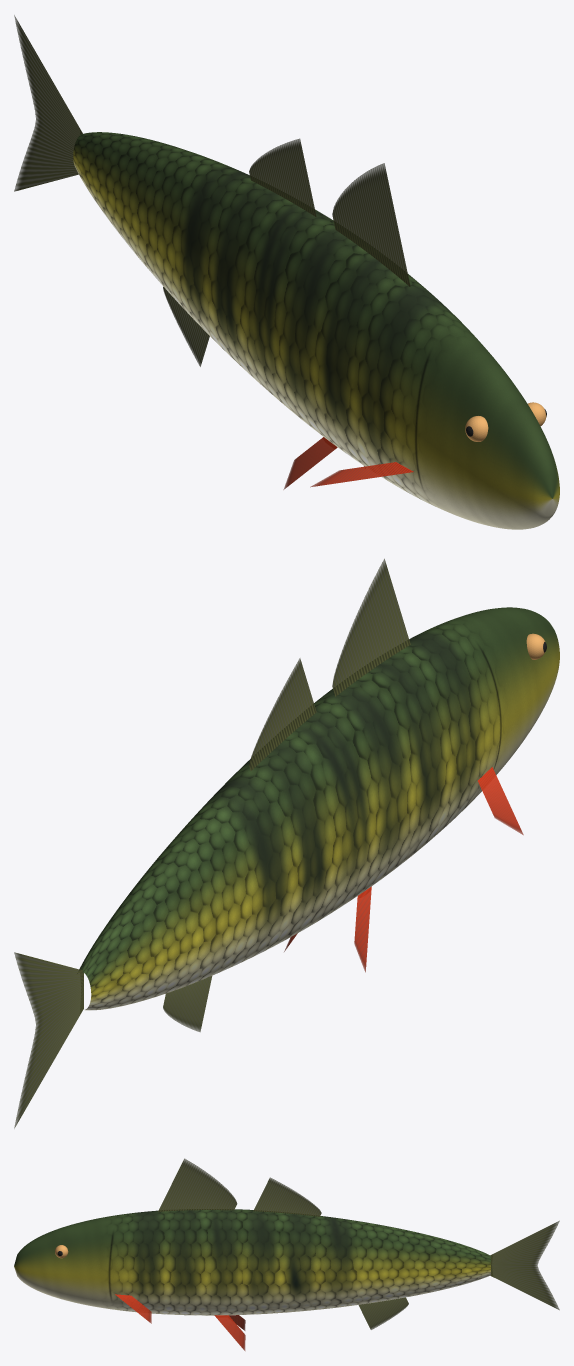
File: okun_trophy.glb
The picture shows the model from 3 angles, top to bottom: view 1: azimuth 30°, elevation 25°; view 2: azimuth 150°, elevation 25°; view 3: azimuth 270°, elevation 25°; orthographic projection. The views are drawn at different scales.
Visible parts, largest first — view 1: body, fin_tail, fin_dorsal0, fin_dorsal1, fin_anal0, fin_pect_R, fin_pelv_R; view 2: body, fin_tail, fin_dorsal0, fin_dorsal1, fin_anal0, fin_pect_R, fin_pelv_R; view 3: body, fin_tail, fin_dorsal0, fin_dorsal1, fin_anal0, fin_pelv_L, fin_pect_L.
Part boxes in pixels (x1,y1,x2,y2): body: [73, 132, 559, 529]; fin_tail: [14, 15, 82, 191]; fin_dorsal0: [332, 163, 410, 286]; fin_dorsal1: [249, 138, 316, 216]; fin_anal0: [163, 287, 209, 366]; fin_pect_R: [310, 462, 413, 487]; fin_pelv_R: [283, 437, 337, 489]; body: [79, 607, 559, 1010]; fin_tail: [14, 952, 83, 1128]; fin_dorsal0: [332, 558, 410, 696]; fin_dorsal1: [249, 658, 316, 770]; fin_anal0: [163, 976, 212, 1031]; fin_pect_R: [478, 767, 523, 835]; fin_pelv_R: [354, 886, 371, 972]; body: [14, 1209, 490, 1315]; fin_tail: [490, 1220, 559, 1310]; fin_dorsal0: [158, 1158, 237, 1211]; fin_dorsal1: [253, 1177, 321, 1216]; fin_anal0: [358, 1297, 408, 1329]; fin_pelv_L: [214, 1315, 245, 1350]; fin_pect_L: [115, 1294, 151, 1323].
Size of the model in its own units: 0.0965 by 0.1553 by 0.42.
5 materials, 3 textured.
